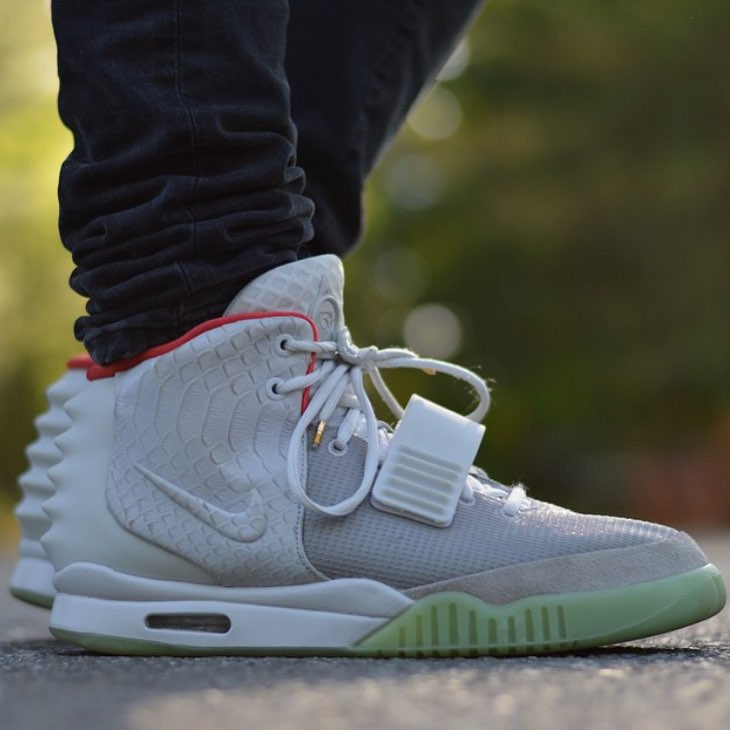sneaker: (3, 222, 730, 688)
